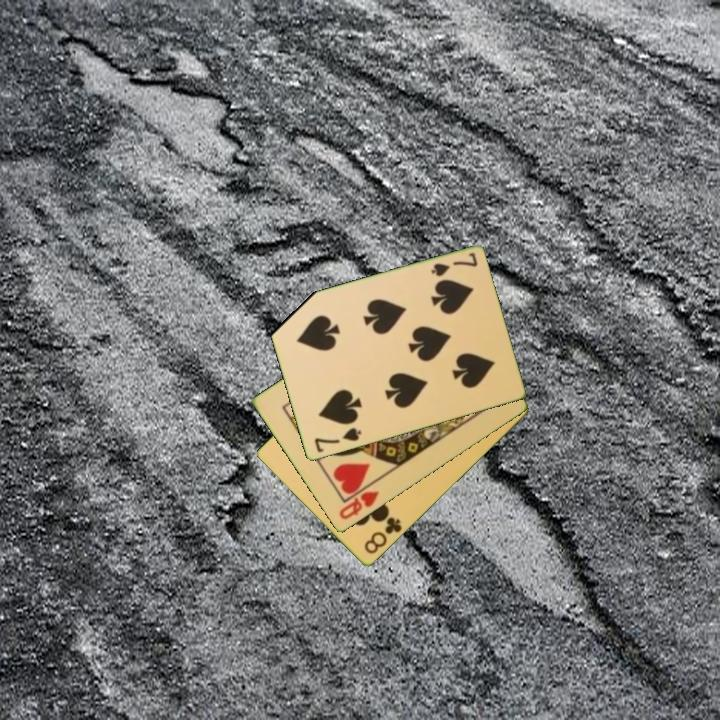7s: (311, 424, 364, 456), (427, 249, 480, 280)
8c: (361, 514, 405, 557)
Qh: (335, 488, 382, 523)
